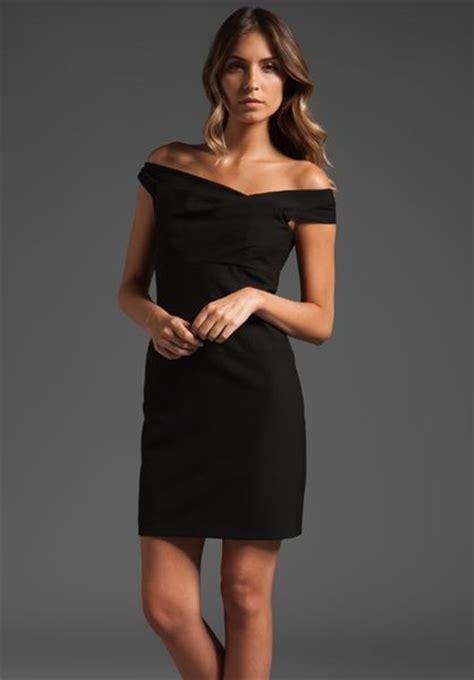dress: (134, 159, 336, 542)
